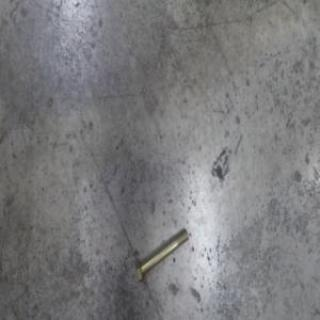Bolttrack_idkeyframe: (133, 226, 187, 287)
